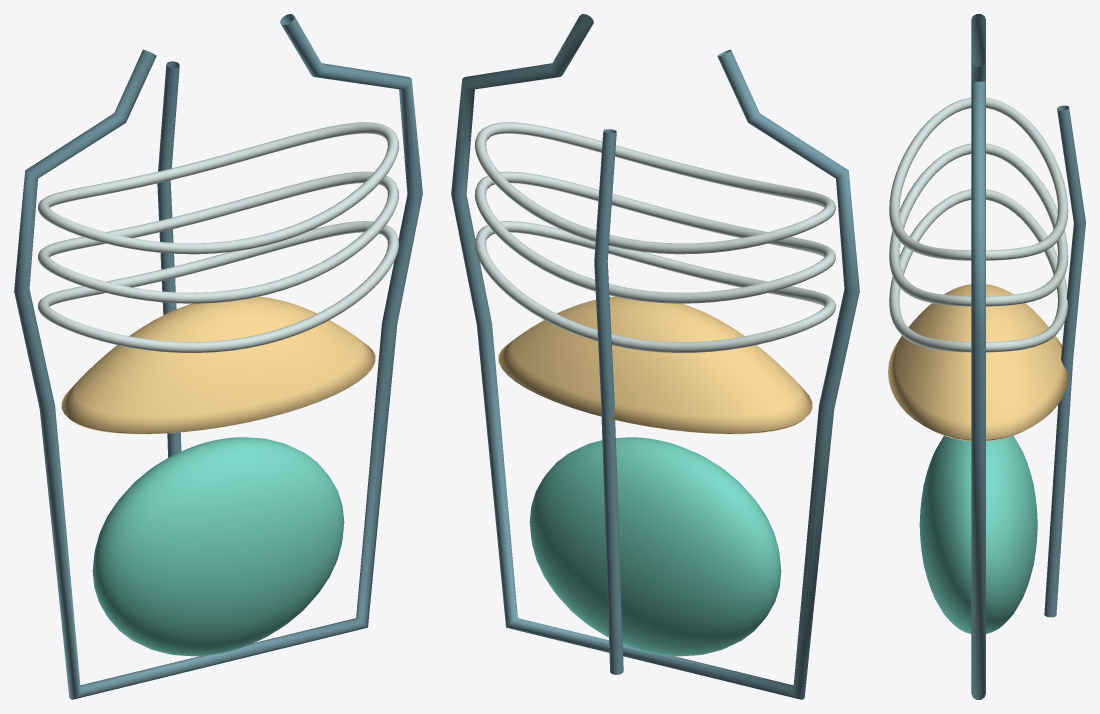
Rendered from diaphragmatic.glb.
3 views of the same model, side by side, from view 1: azimuth 30°, elevation 25°; view 2: azimuth 150°, elevation 25°; view 3: azimuth 270°, elevation 25° (orthographic). The views are drawn at different scales.
Visible parts, largest first — view 1: belly, diaphragm, torso, chest_reference_0, chest_reference_1, chest_reference_2, side_reference; view 2: belly, diaphragm, torso, chest_reference_0, chest_reference_1, chest_reference_2, side_reference; view 3: diaphragm, belly, torso, side_reference, chest_reference_0, chest_reference_1, chest_reference_2.
Boxes of the visible parts, box(x1,y1,x2,y2) form: belly: box(92, 437, 344, 656); diaphragm: box(61, 296, 375, 434); torso: box(14, 14, 422, 699); chest_reference_0: box(38, 122, 399, 254); chest_reference_1: box(38, 171, 399, 303); chest_reference_2: box(38, 221, 399, 352); side_reference: box(157, 61, 181, 457); belly: box(529, 437, 781, 656); diaphragm: box(498, 296, 812, 434); torso: box(451, 14, 859, 699); chest_reference_0: box(474, 122, 835, 254); chest_reference_1: box(474, 171, 835, 303); chest_reference_2: box(474, 221, 835, 352); side_reference: box(594, 129, 623, 674); diaphragm: box(888, 284, 1069, 441); belly: box(919, 435, 1037, 633); torso: box(971, 14, 985, 699); side_reference: box(1044, 105, 1085, 617); chest_reference_0: box(889, 97, 1068, 260); chest_reference_1: box(889, 143, 1068, 306); chest_reference_2: box(889, 189, 1067, 352).
Size of the model in its own units: 2.07 by 3.06 by 0.9385.
